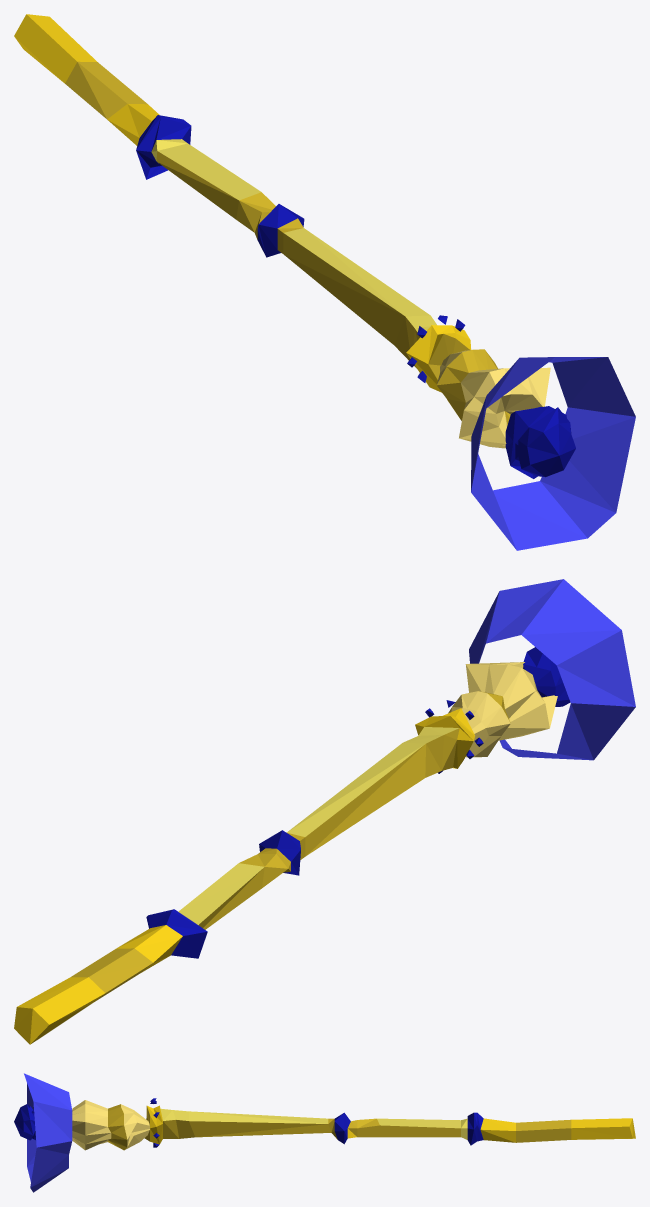
Rendered from voters_sceptre_inv.obj.
The picture shows the model from 3 angles, top to bottom: view 1: azimuth 30°, elevation 25°; view 2: azimuth 150°, elevation 25°; view 3: azimuth 270°, elevation 25°; orthographic projection. The views are drawn at different scales.
Bounding box in the file's own units: 34 × 37 × 192.
